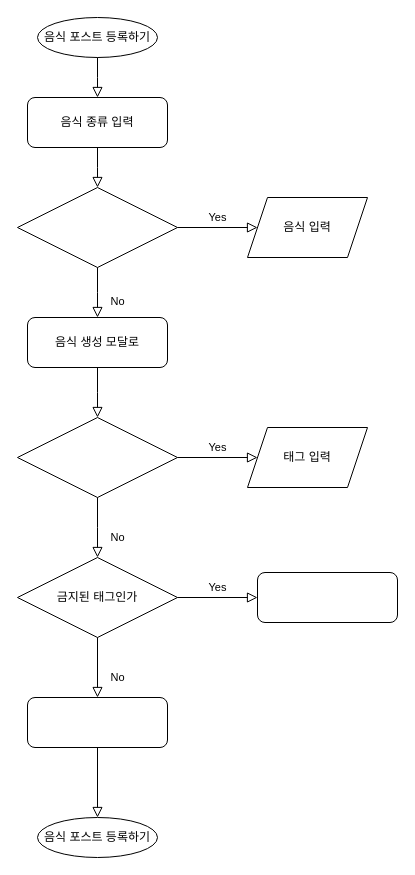
Some shapes in this 415 by 875 pixel diagram are drawn without their labels. Each missing label, with the centre of its shape:
"이미 음식이 존재하는가?" goes at point 97,227.
"입력 불가" goes at point 327,597.
"태그 생성" goes at point 97,722.
"태그가 존재하는가?" goes at point 97,457.
